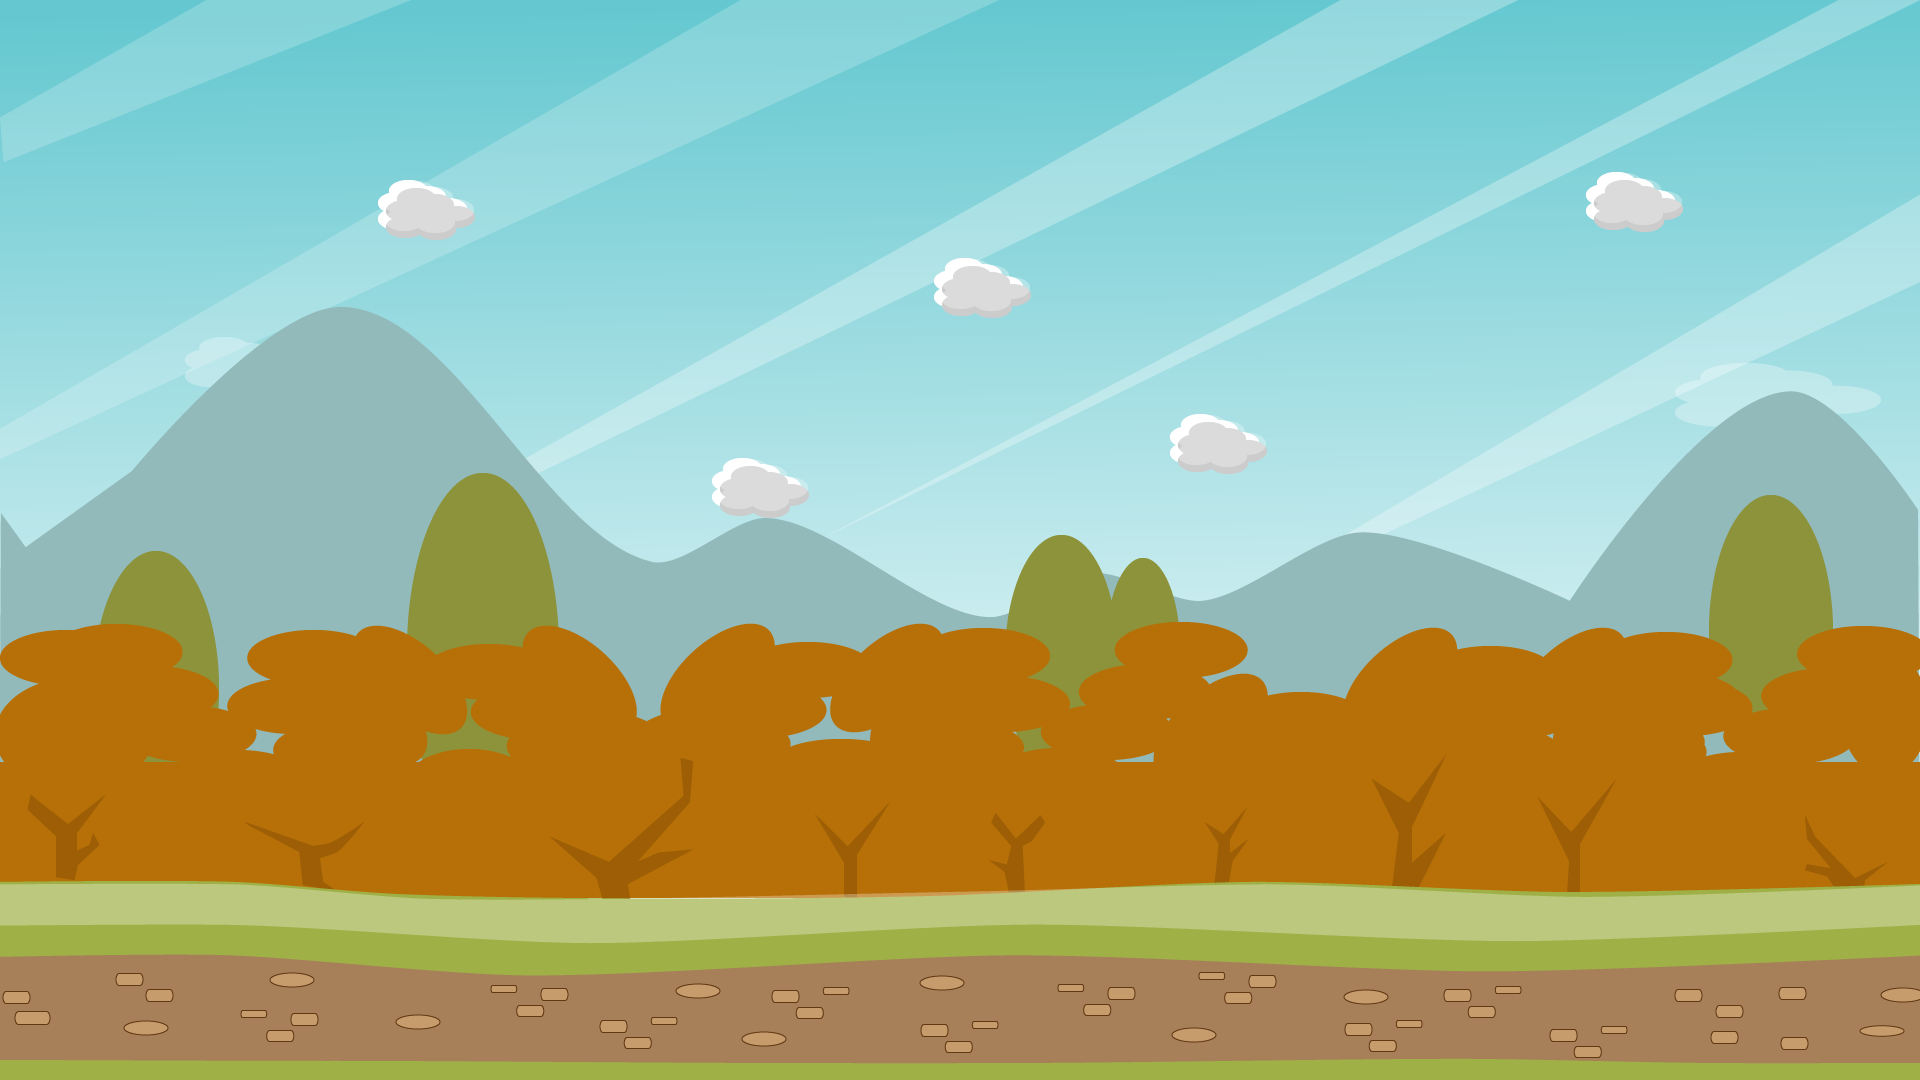character: (823, 684, 891, 756)
door: (1456, 46, 1553, 156)
flymonster: (102, 207, 149, 260)
ground: (9, 596, 231, 894), (653, 799, 1296, 894), (1667, 670, 1917, 893), (237, 728, 459, 895)
ground_empty: (7, 891, 1913, 1079)
ground_grass: (1398, 164, 1902, 202), (419, 517, 814, 563), (922, 558, 1315, 604), (257, 258, 650, 305), (819, 353, 1108, 400), (1254, 299, 1543, 345), (1473, 459, 1762, 505), (5, 400, 175, 442), (1358, 680, 1549, 707)
littlemonster: (1029, 473, 1076, 527), (1497, 235, 1544, 287), (525, 444, 572, 497), (402, 665, 448, 717), (1490, 632, 1532, 676)
monster: (138, 505, 179, 551), (644, 463, 684, 509), (1174, 479, 1215, 525), (1741, 109, 1782, 156)
shootmonster: (1857, 591, 1904, 644), (1282, 244, 1329, 297), (276, 190, 323, 243), (1789, 595, 1837, 647)
smallmonster: (1639, 100, 1681, 146), (322, 670, 364, 716), (1004, 291, 1046, 338)
wallmonster: (568, 200, 607, 237), (727, 469, 764, 506), (1667, 611, 1704, 647)
window: (1, 187, 564, 1077)
